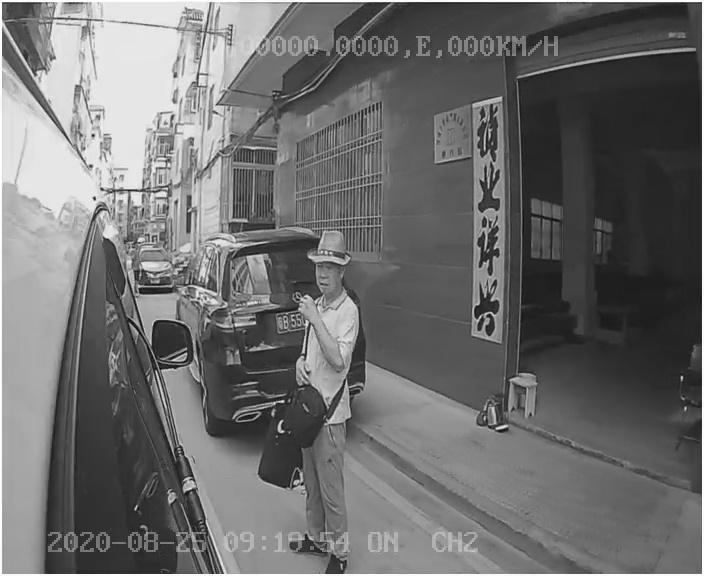person: (265, 237, 379, 529)
